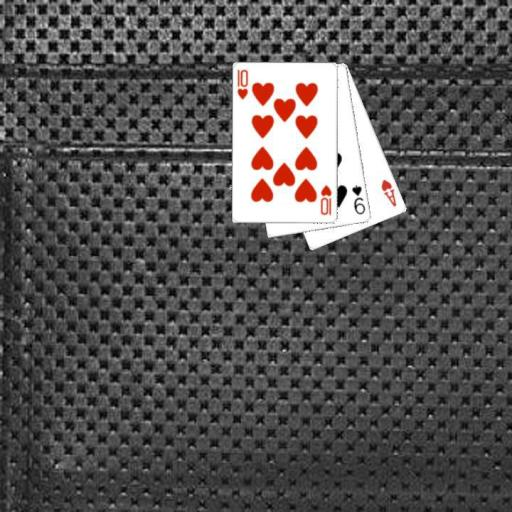10H: (234, 67, 250, 101), (318, 182, 333, 216)
9S: (349, 182, 367, 216)
AH: (379, 177, 399, 209)
